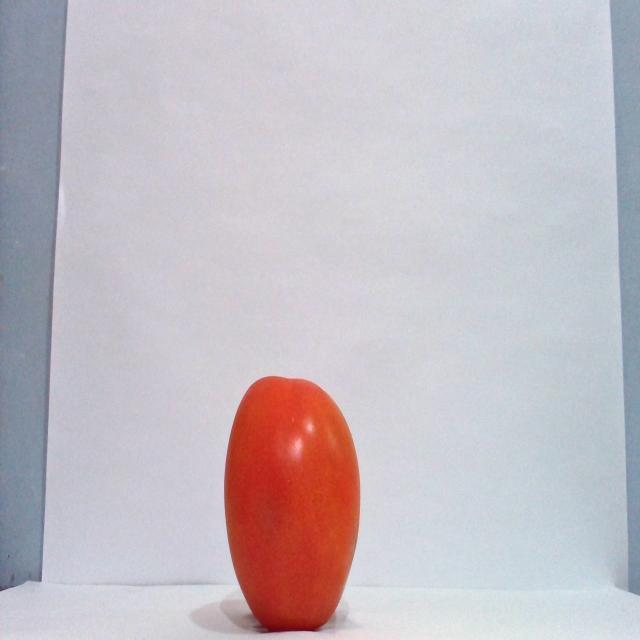Red: (222, 373, 361, 631)
